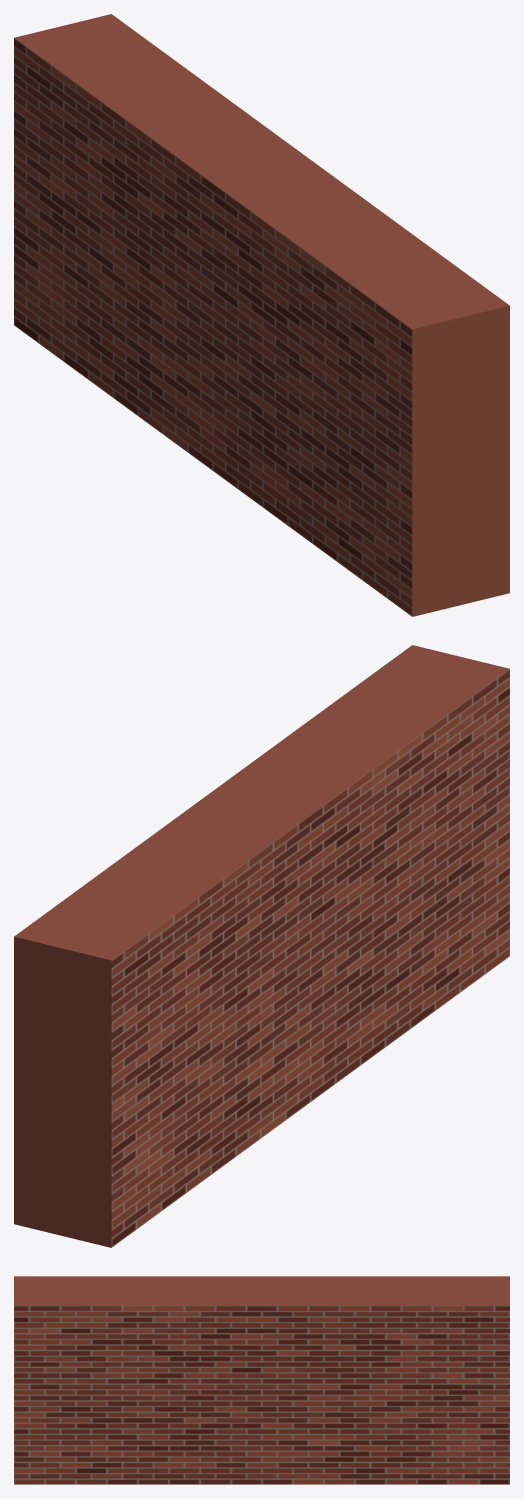
File: brick_wall.glb
3 renders of one model, top to bottom at view 1: azimuth 30°, elevation 25°; view 2: azimuth 150°, elevation 25°; view 3: azimuth 270°, elevation 25°, orthographic. The views are drawn at different scales.
Parts seen in each view (by area): view 1: brick_wall; view 2: brick_wall; view 3: brick_wall.
Boxes of the visible parts, left/top/right/bottom form: brick_wall: left=14, top=14, right=509, bottom=616; brick_wall: left=14, top=645, right=509, bottom=1247; brick_wall: left=14, top=1276, right=509, bottom=1484.
Size of the model in its own units: 4.1 by 11.55 by 29.02.
1 material, 1 textured.
